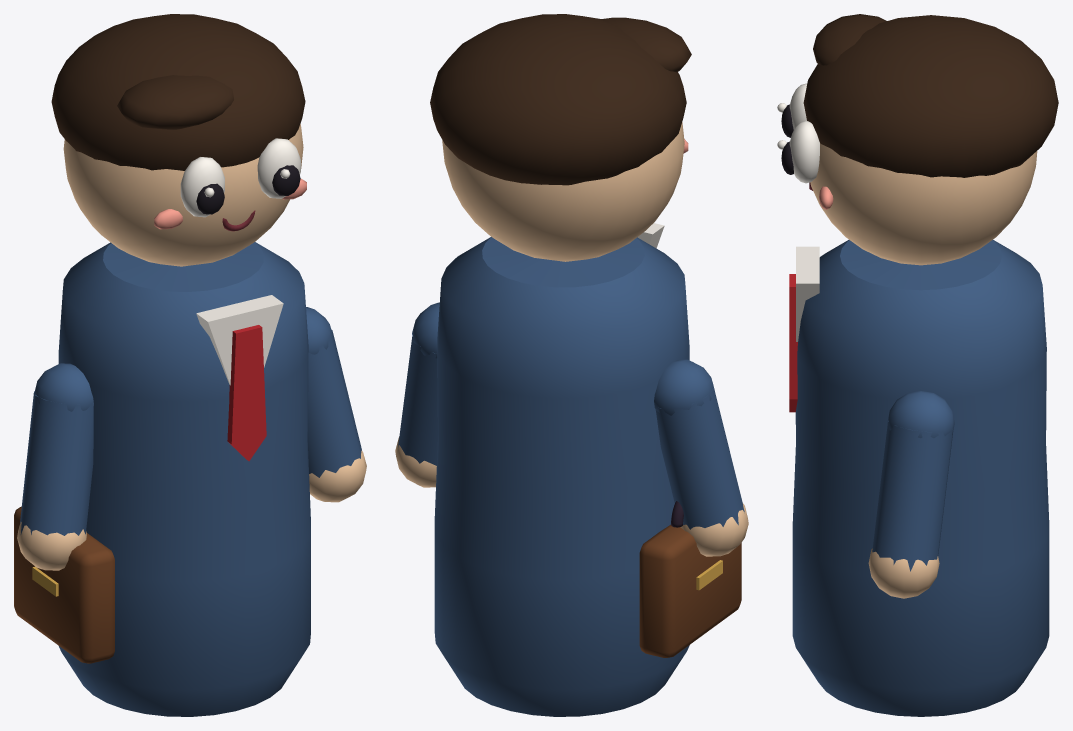
File: Char_Commuter.fbx
3 views of the same model, side by side, from view 1: azimuth 30°, elevation 25°; view 2: azimuth 150°, elevation 25°; view 3: azimuth 270°, elevation 25° (orthographic).
Parts seen in each view (by area): view 1: Body, Head; view 2: Body, Head; view 3: Body, Head.
Boxes of the visible parts, x1,y1,x2,y2 form: Body: [14, 242, 366, 716]; Head: [51, 14, 306, 266]; Body: [395, 223, 748, 716]; Head: [430, 14, 691, 261]; Body: [789, 240, 1049, 716]; Head: [777, 14, 1058, 265].
Size of the model in its own units: 1.17 by 2.09 by 0.8327.
